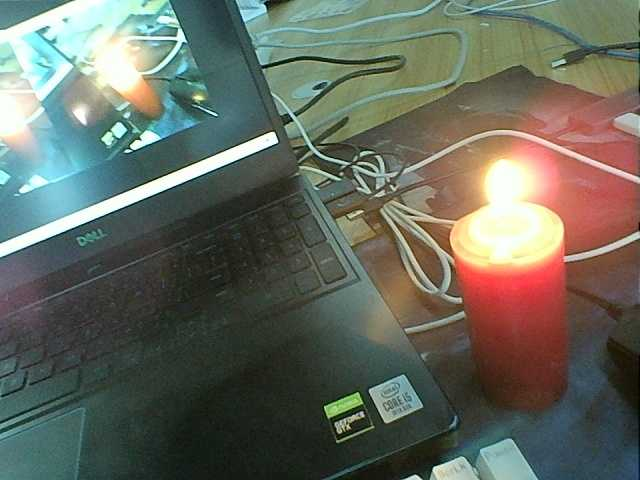candle: (452, 208, 582, 413), (109, 83, 168, 125), (7, 135, 48, 178)
fire: (480, 154, 557, 262), (97, 50, 142, 93), (1, 90, 31, 138)
